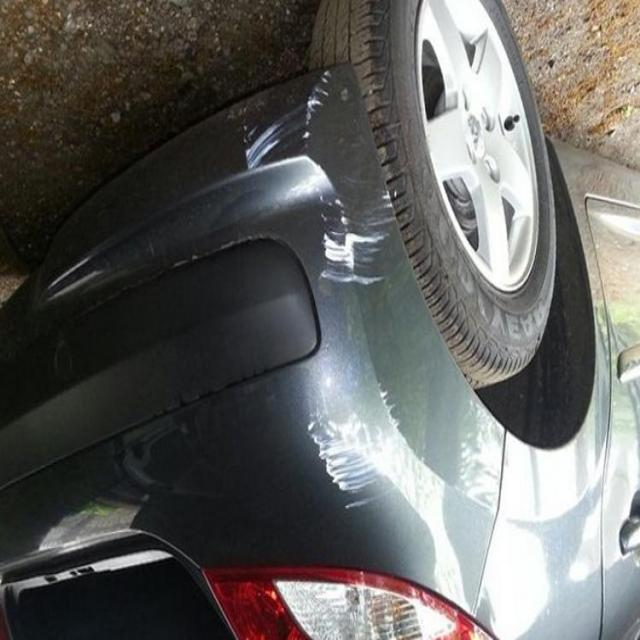scratch: (231, 61, 386, 282), (298, 381, 407, 519)
